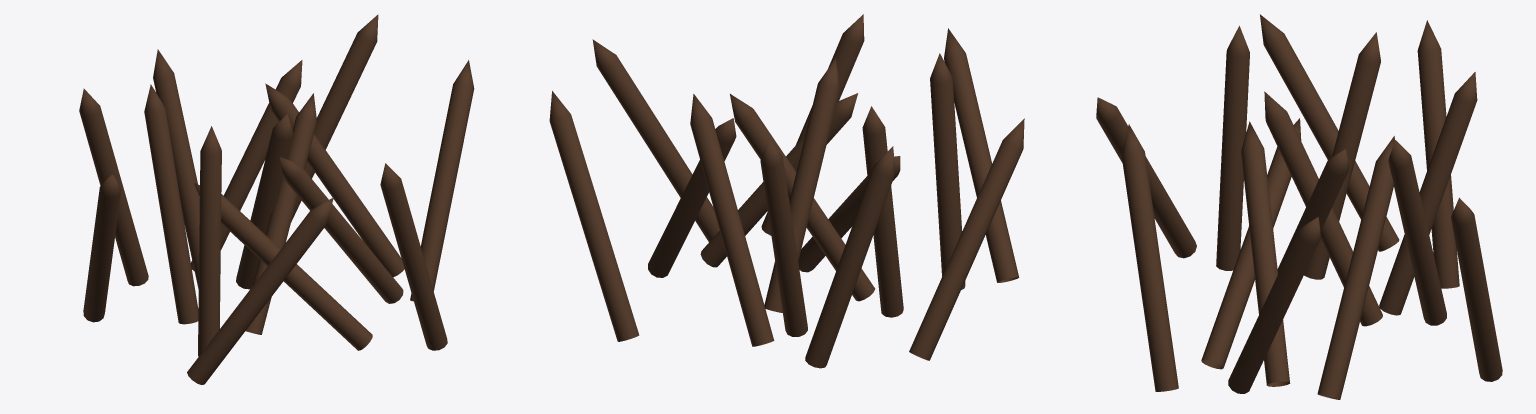
Rendered from Spikes2.fbx.
3 views of the same model, side by side, from view 1: azimuth 30°, elevation 25°; view 2: azimuth 150°, elevation 25°; view 3: azimuth 270°, elevation 25° (orthographic). The views are drawn at different scales.
Visible parts, largest first — view 1: spikes2; view 2: spikes2; view 3: spikes2.
Boxes of the visible parts, x1,y1,x2,y2 form: spikes2: (79,14,474,384); spikes2: (549,14,1024,368); spikes2: (1096,14,1502,399).
Size of the model in its own units: 306 by 188 by 266.
